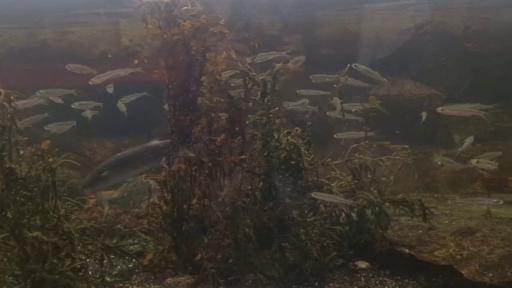Fish: (83, 140, 170, 191), (97, 178, 159, 213), (89, 68, 145, 84), (352, 64, 389, 84), (311, 192, 356, 205), (436, 106, 486, 117), (17, 113, 49, 129), (283, 99, 318, 111), (13, 97, 48, 109), (44, 121, 76, 134), (252, 52, 290, 62), (119, 92, 152, 103), (33, 89, 77, 97), (66, 64, 97, 75), (435, 157, 466, 168), (327, 112, 364, 121), (457, 135, 474, 154), (457, 198, 503, 205), (339, 77, 370, 87), (334, 132, 375, 139), (282, 98, 309, 108), (0, 89, 27, 99), (471, 159, 498, 169), (447, 104, 497, 109), (72, 102, 102, 110), (288, 56, 306, 69), (474, 152, 502, 160), (343, 103, 370, 111), (310, 75, 337, 83), (81, 110, 99, 122), (296, 90, 332, 96), (286, 105, 318, 111), (331, 97, 342, 112), (221, 70, 239, 78), (117, 101, 127, 115), (228, 89, 244, 97), (230, 79, 243, 86), (212, 113, 228, 118), (50, 97, 63, 103), (421, 112, 427, 124), (106, 84, 114, 93), (453, 135, 461, 144)
